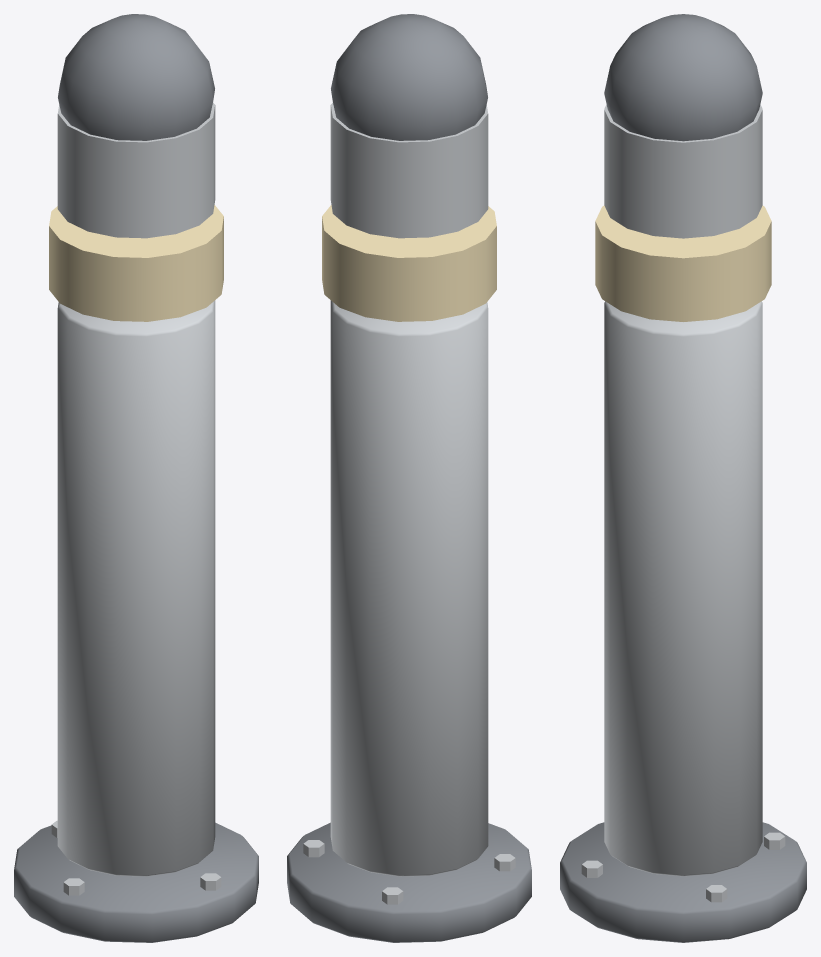
File: Bollard_Lit.fbx
3 renders of one model, left to right at view 1: azimuth 30°, elevation 25°; view 2: azimuth 150°, elevation 25°; view 3: azimuth 270°, elevation 25°, orthographic.
Visible parts, largest first — view 1: LOD0; view 2: LOD0; view 3: LOD0.
Part boxes in pixels (box(x1,y1,x2,y2)): LOD0: box(14, 14, 258, 942); LOD0: box(287, 14, 531, 942); LOD0: box(560, 14, 806, 942).
Size of what is drawn, in the model's own units: 28 by 109 by 28.
